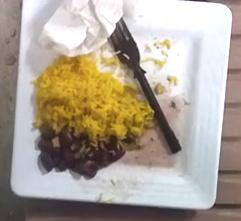black_beans: (37, 127, 125, 179)
rice: (33, 54, 152, 140)
